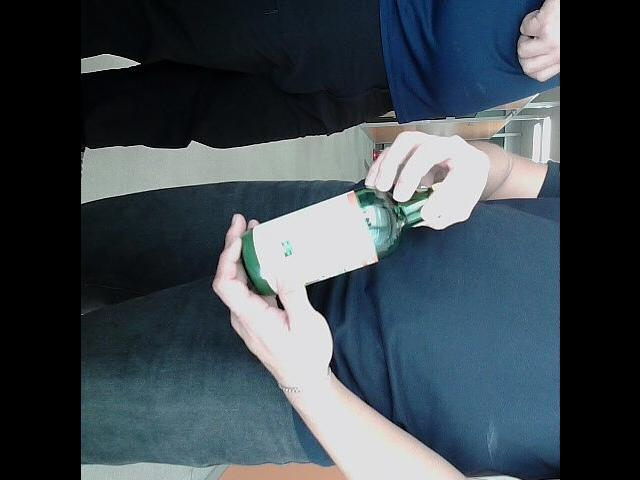Lemon_sapporo: (238, 176, 458, 302)
